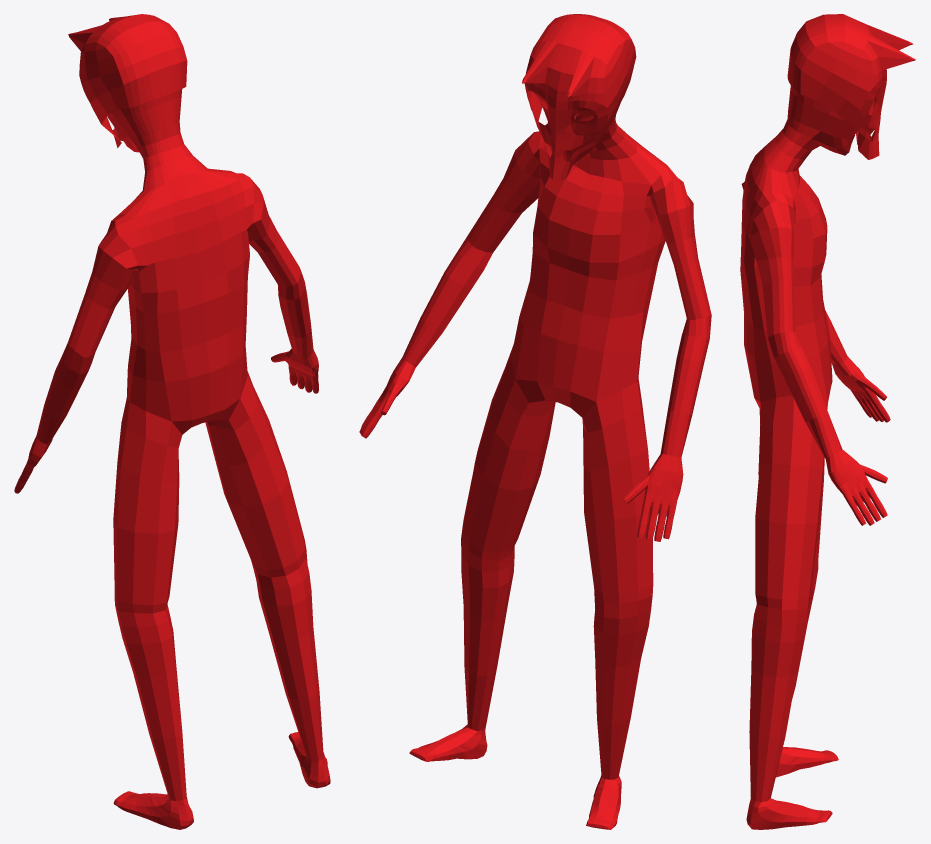
File: reposoE_000283.obj
The picture shows the model from 3 angles, left to right: view 1: azimuth 30°, elevation 25°; view 2: azimuth 150°, elevation 25°; view 3: azimuth 270°, elevation 25°; orthographic projection. The views are drawn at different scales.
Visible parts, largest first — view 1: Plane.002_Plane.001; view 2: Plane.002_Plane.001; view 3: Plane.002_Plane.001.
Boxes of the visible parts, bbox=[...] form: Plane.002_Plane.001: bbox=[14, 14, 330, 829]; Plane.002_Plane.001: bbox=[359, 14, 711, 829]; Plane.002_Plane.001: bbox=[740, 14, 915, 829].
Bounding box in the file's own units: 2.87 × 7.15 × 1.52.
